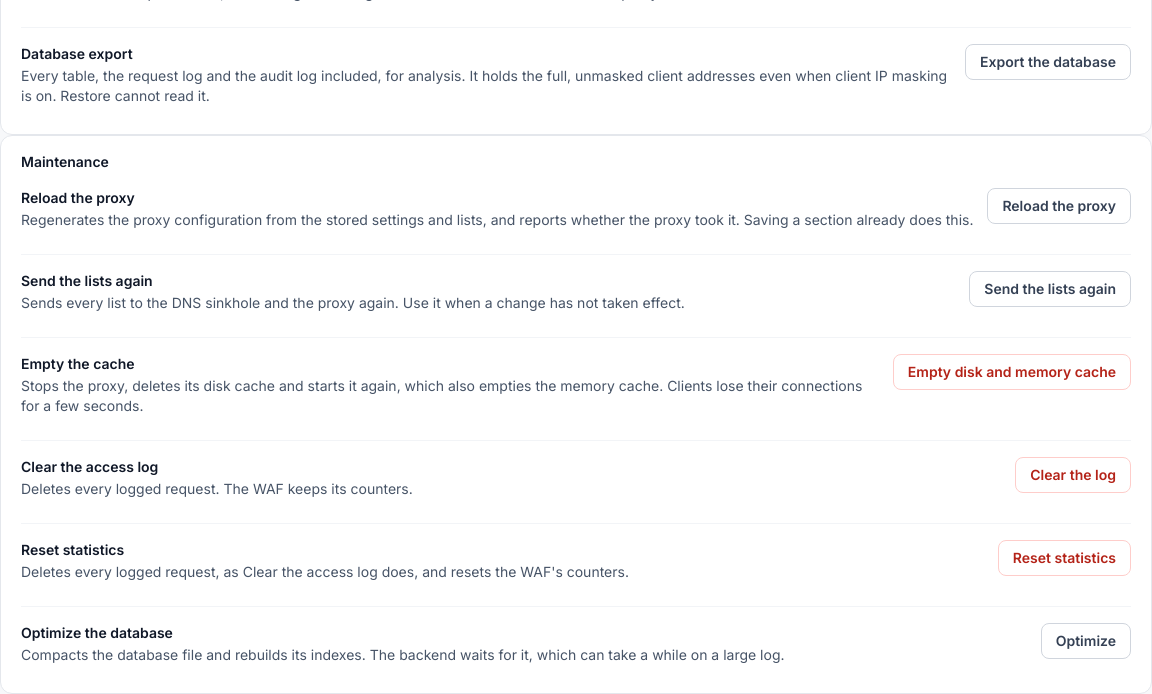
Maintenance › does nothing destructive when the confirmation is cancelled
(page scrolled)
Click the button "Reset statistics": x=1064, y=558 [998,540,1131,576]
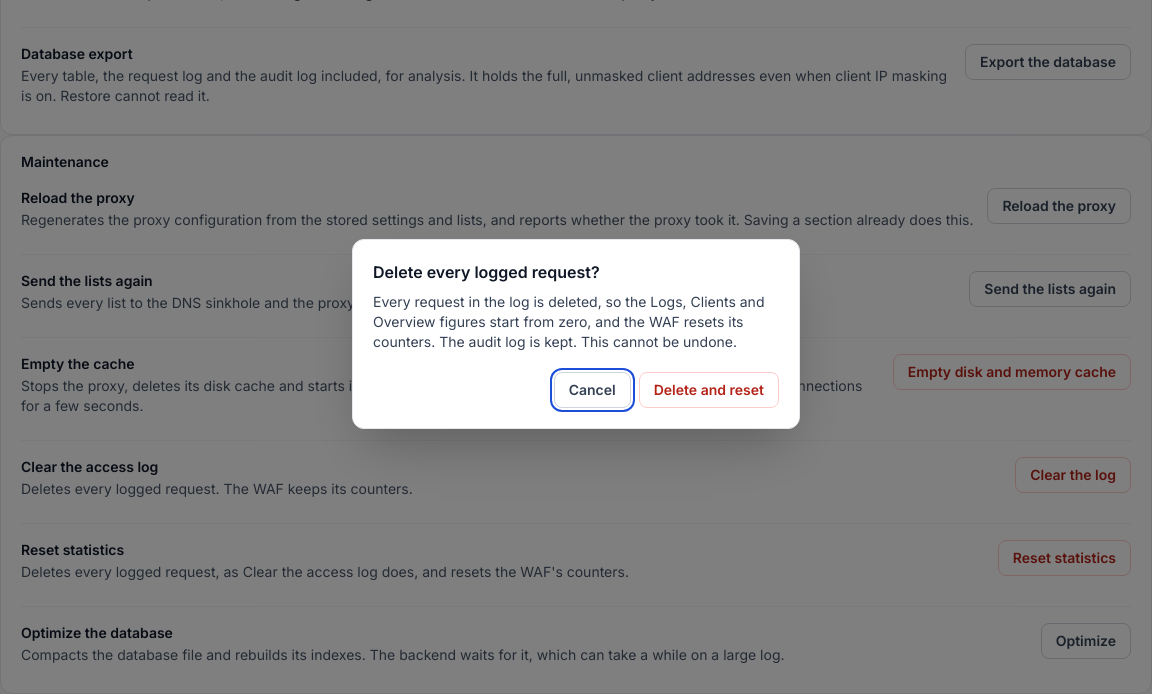
Click the button "Cancel": x=592, y=390 [554,372,631,408]
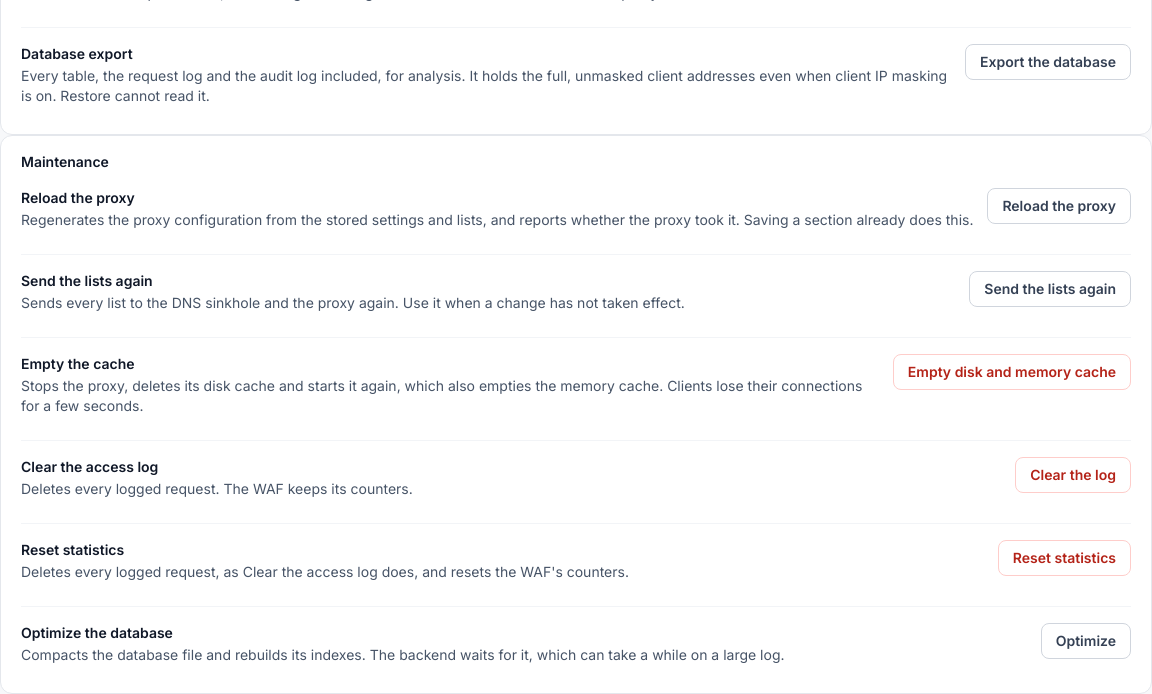
Now the dialog is gone
